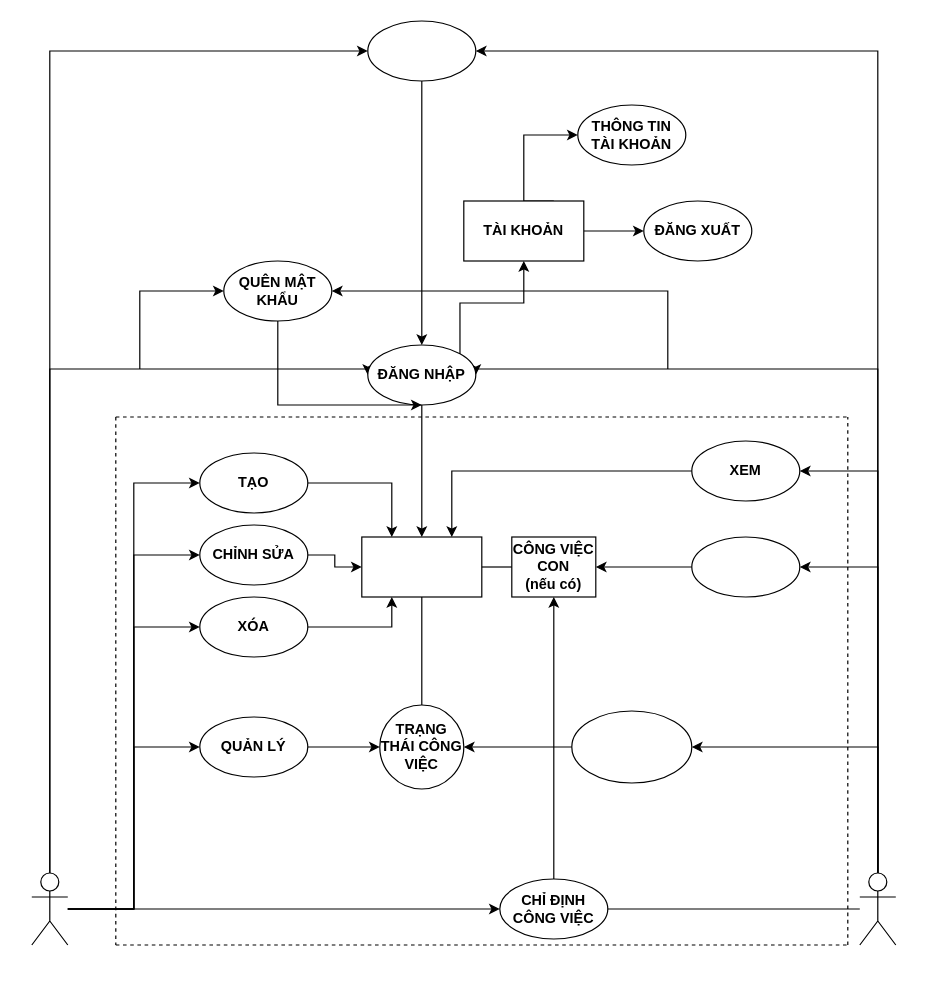
The diagram is 935 pixels wide and 991 high, and some of its shapes have lost their labels. Here are the shapes that lost their labels. From the top down, the box of each, then its label:
(367, 20, 476, 81): ĐĂNG KÝ
(361, 536, 482, 597): CÔNG VIỆC
(691, 536, 800, 597): THAM GIA
(571, 710, 692, 783): CẬP NHẬT TRẠNG THÁI CÔNG VIỆC
(31, 872, 68, 945): LEADER
(859, 872, 896, 945): MEMBERS
